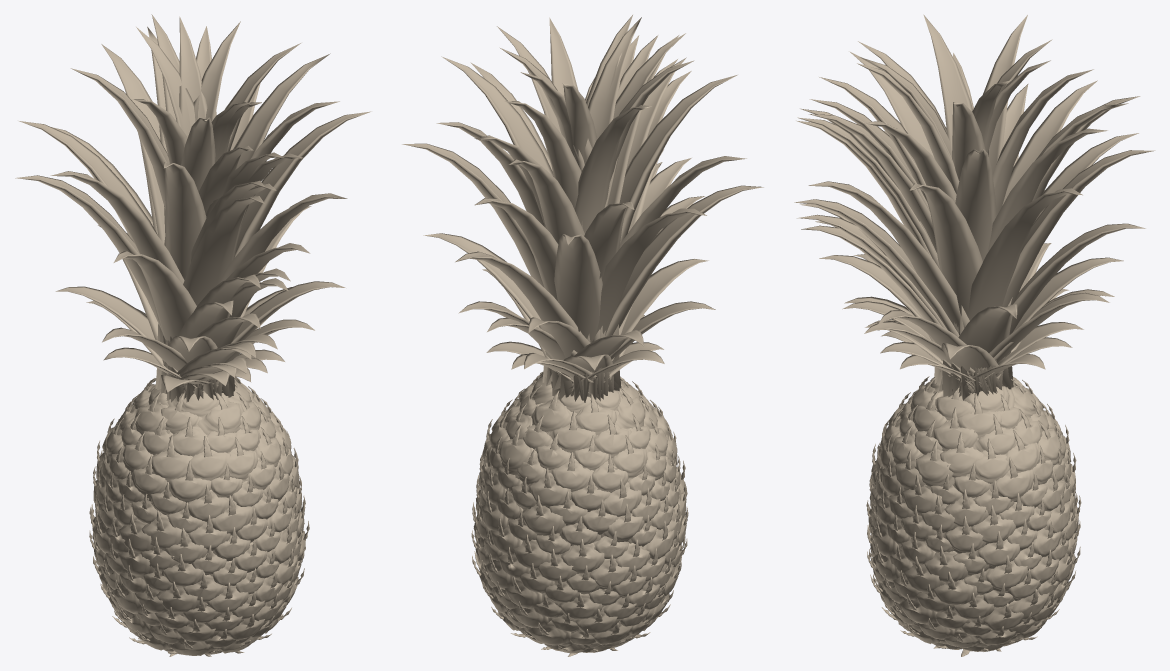
The model's file is 3dcodebench_FruitPineapple_seed0.glb.
The picture shows the model from 3 angles, left to right: view 1: azimuth 30°, elevation 25°; view 2: azimuth 150°, elevation 25°; view 3: azimuth 270°, elevation 25°; orthographic projection.
Parts seen in each view (by area): view 1: object; view 2: object; view 3: object.
Boxes of the visible parts, x1,y1,x2,y2 form: object: [15, 14, 371, 656]; object: [402, 15, 763, 656]; object: [794, 14, 1155, 656].
Size of the model in its own units: 4.33 by 8.11 by 4.54.
